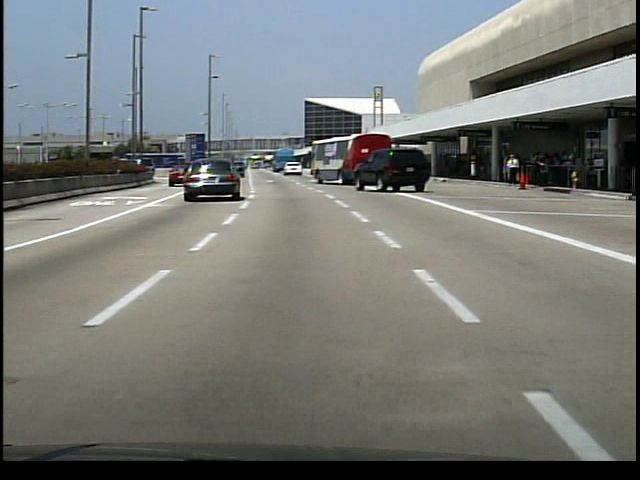person: (503, 152, 519, 188)
